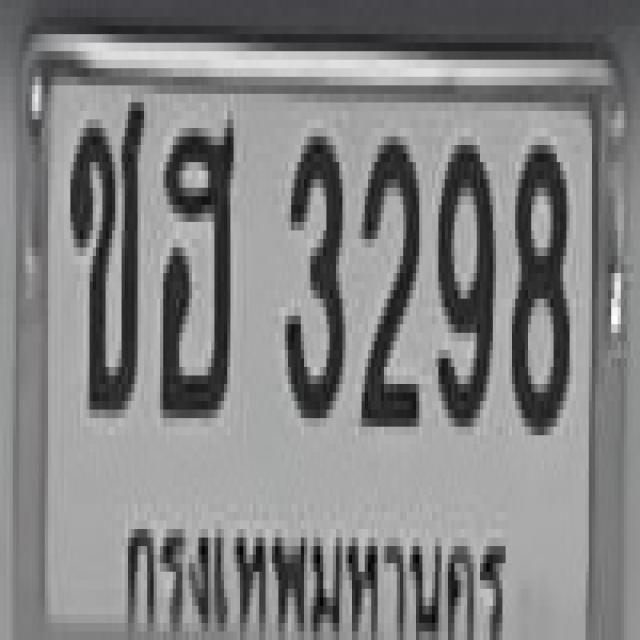2: (358, 128, 416, 418)
3: (282, 128, 342, 418)
8: (509, 136, 566, 426)
9: (435, 137, 493, 418)
A10: (66, 94, 142, 409)
A44: (156, 111, 234, 410)
BKK: (118, 480, 510, 640)
